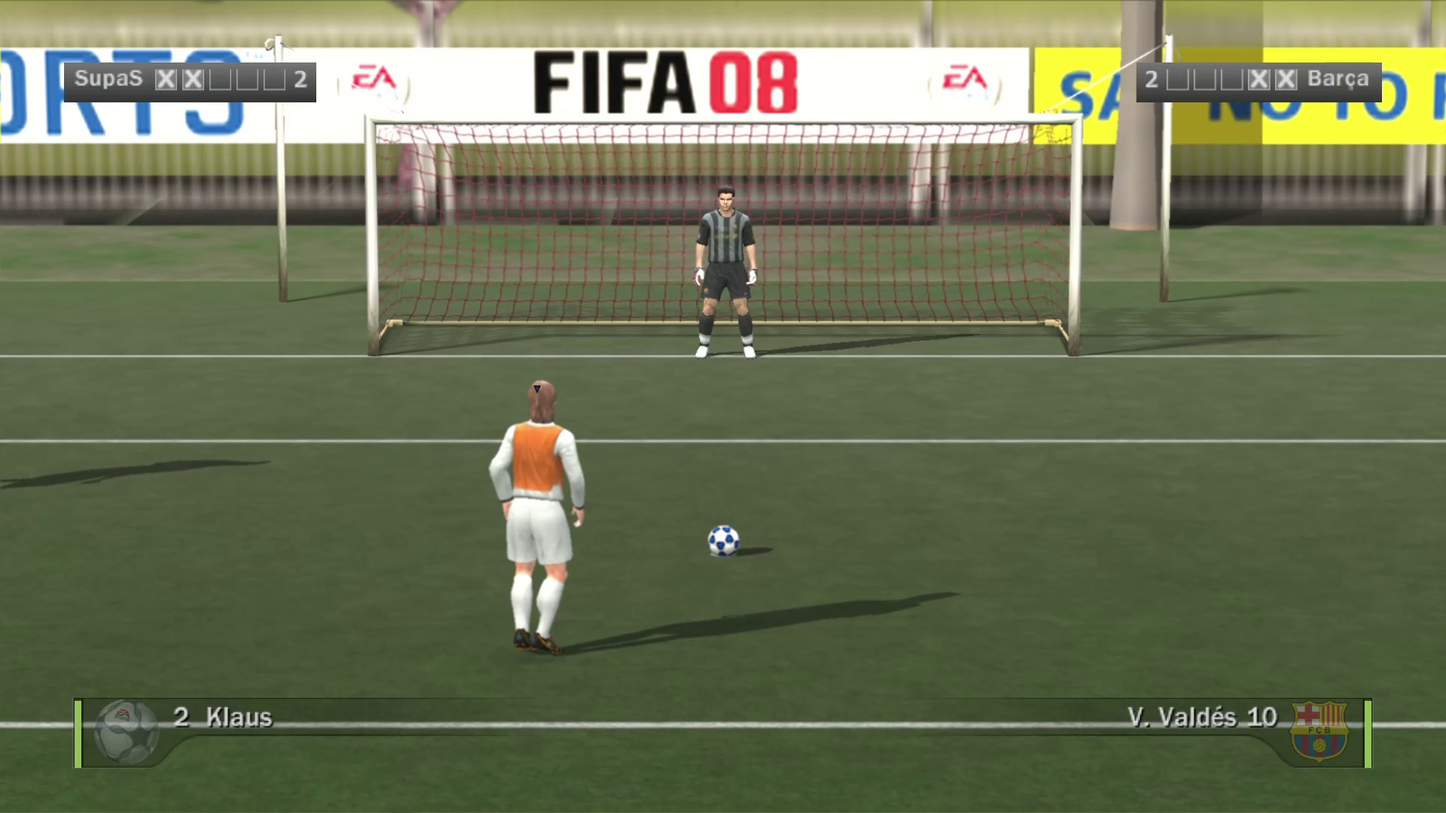ball: (683, 497, 723, 542)
goal_post: (35, 15, 722, 234)
keeper: (660, 105, 729, 272)
kicker: (437, 235, 540, 511)
